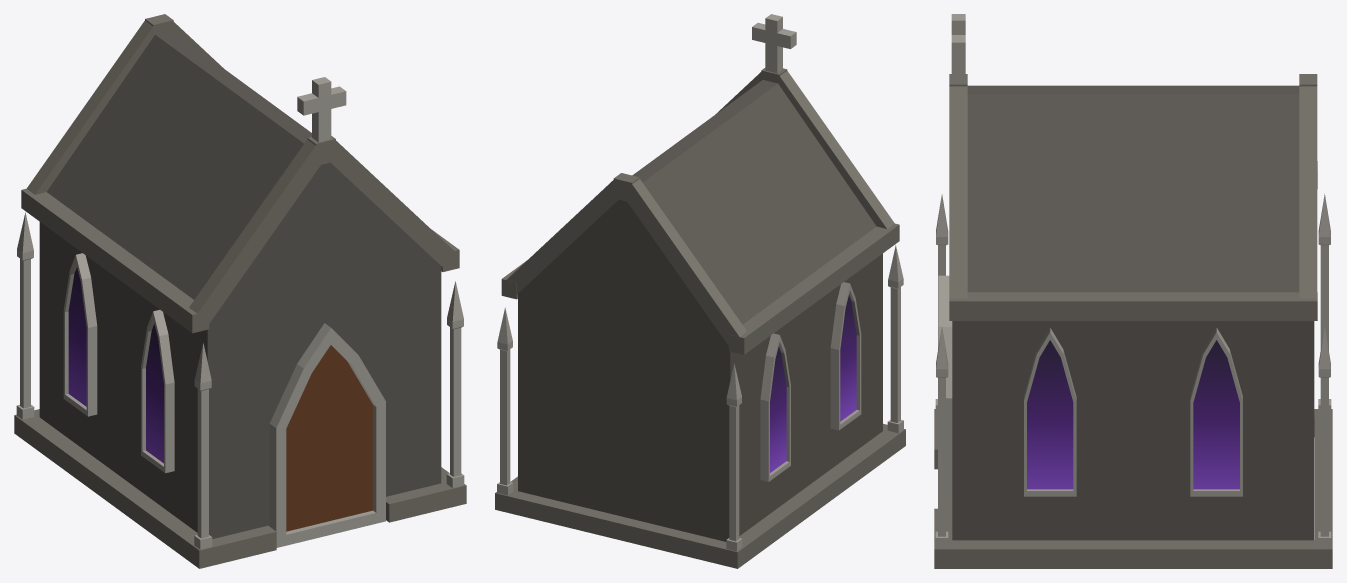
Rendered from 3d-fullana-bernat-cripta.glb.
3 views of the same model, side by side, from view 1: azimuth 30°, elevation 25°; view 2: azimuth 150°, elevation 25°; view 3: azimuth 270°, elevation 25° (orthographic). The views are drawn at different scales.
Visible parts, largest first — view 1: Cube.004; view 2: Cube.004; view 3: Cube.004.
Part boxes in pixels (bbox=[...]): Cube.004: bbox=[14, 14, 466, 568]; Cube.004: bbox=[495, 14, 905, 568]; Cube.004: bbox=[934, 14, 1332, 568].
Bounding box in the file's own units: 2.5 × 4 × 3.
1 material, 1 textured.
